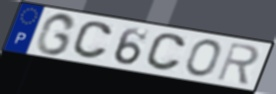6: (113, 26, 150, 67)
C: (70, 20, 115, 61), (143, 32, 188, 73)
G: (34, 12, 78, 57)
O: (183, 38, 223, 78)
R: (215, 41, 261, 86)
